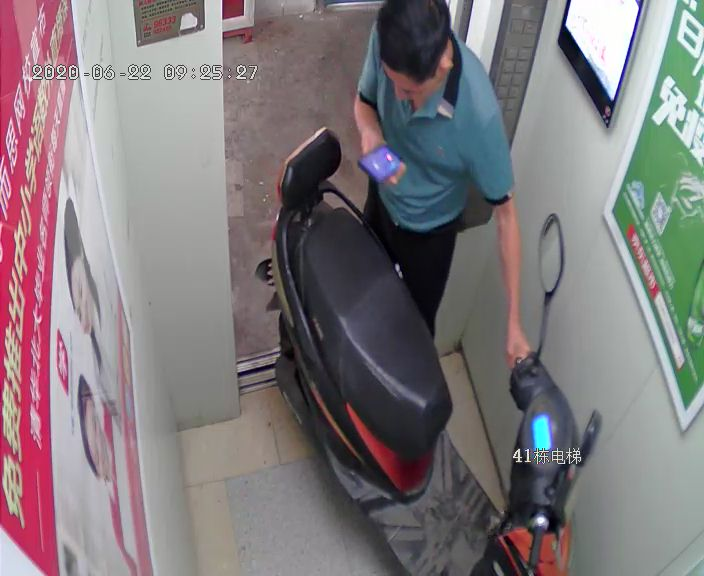Electric-bicycle: (264, 124, 599, 575)
